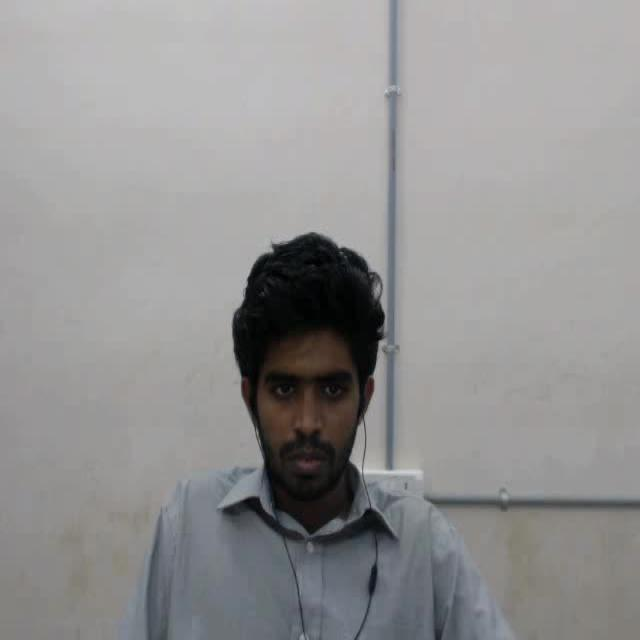Engaged: (200, 199, 418, 539)
